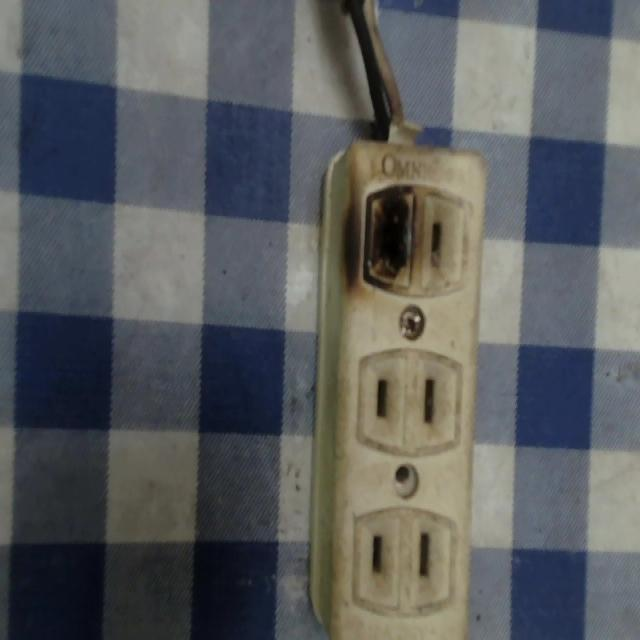-: (351, 176, 418, 295)
